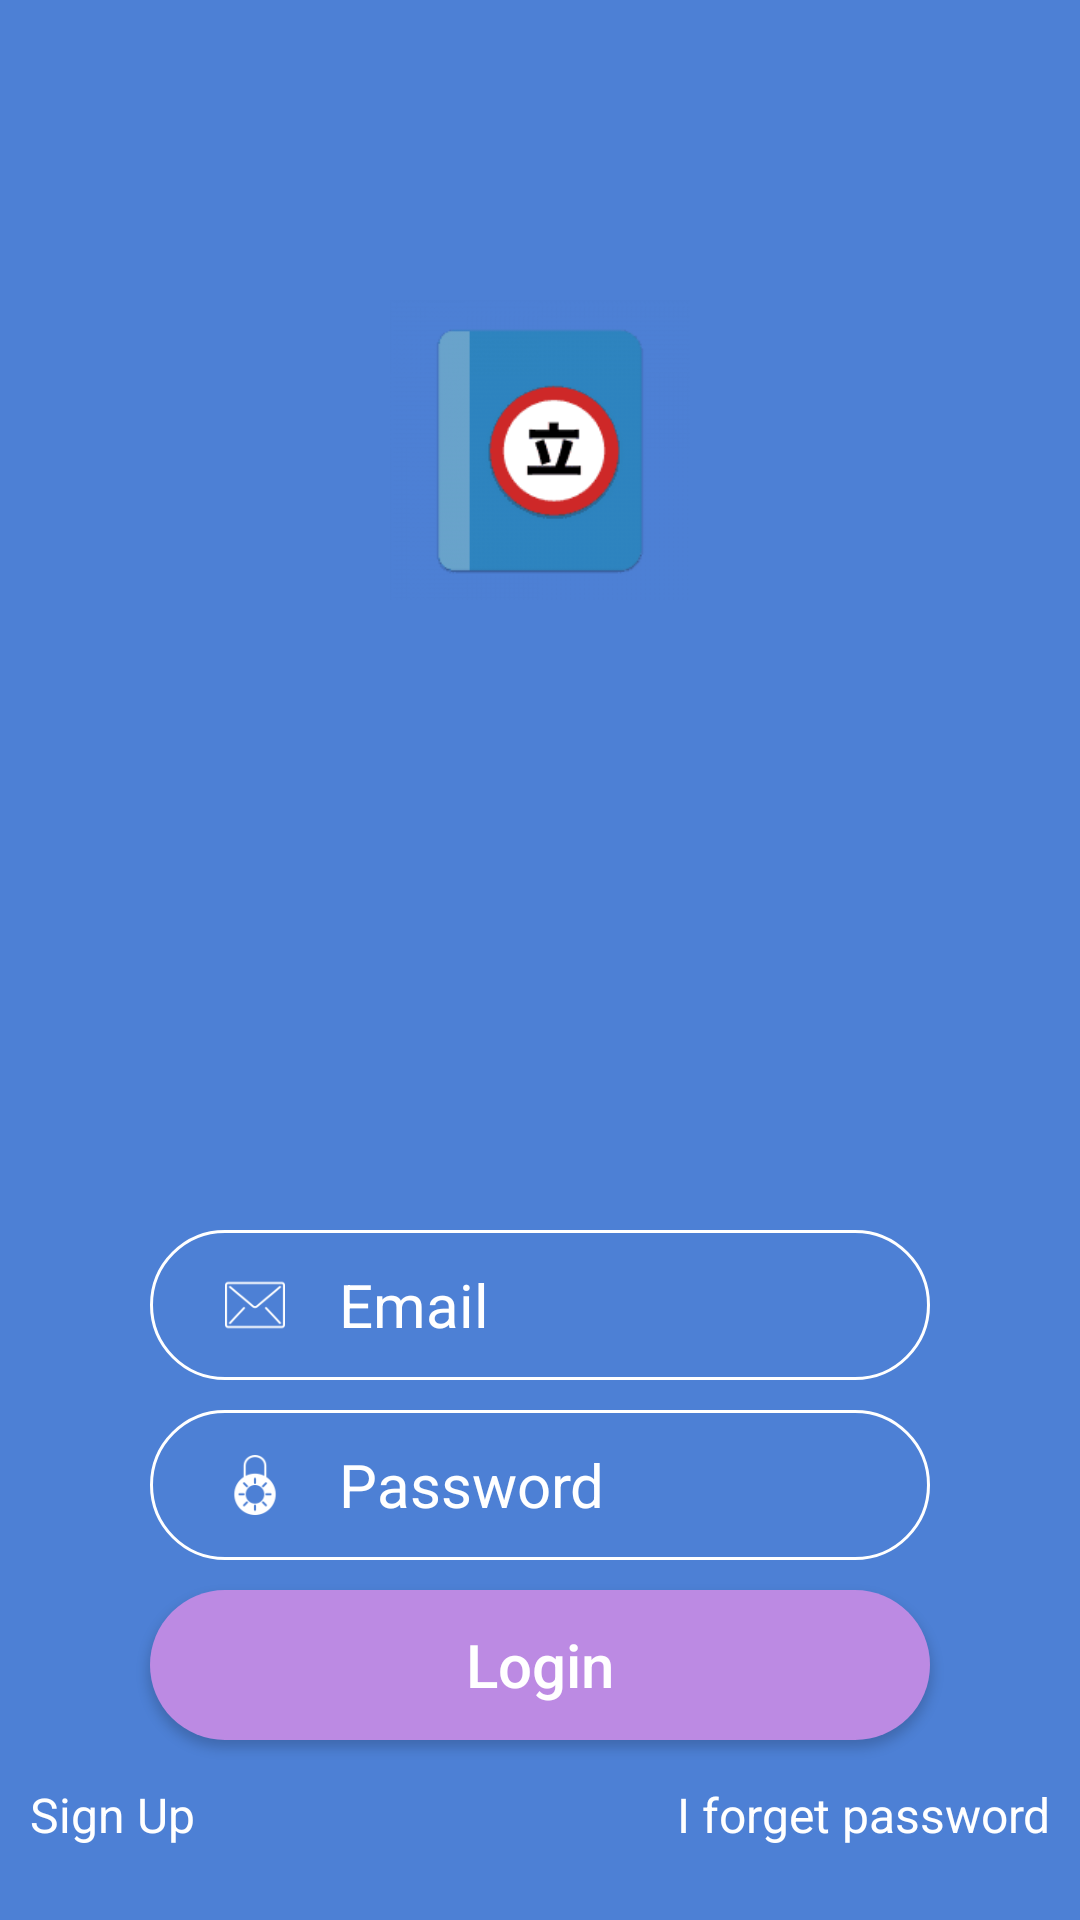

Named icons in this screenshot (1080 × 1920) and their bounding boxes, BBox(x1, y1, x2, y2):
locked: BBox(234, 1455, 276, 1515)
